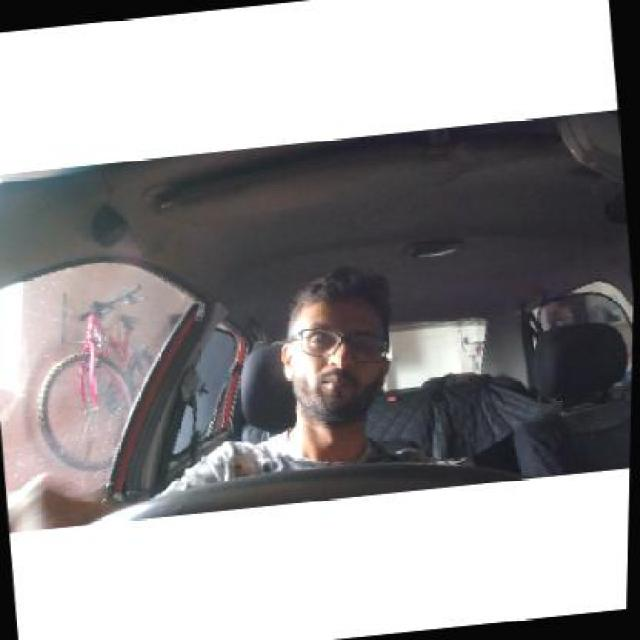drowsy: (281, 271, 394, 424)
